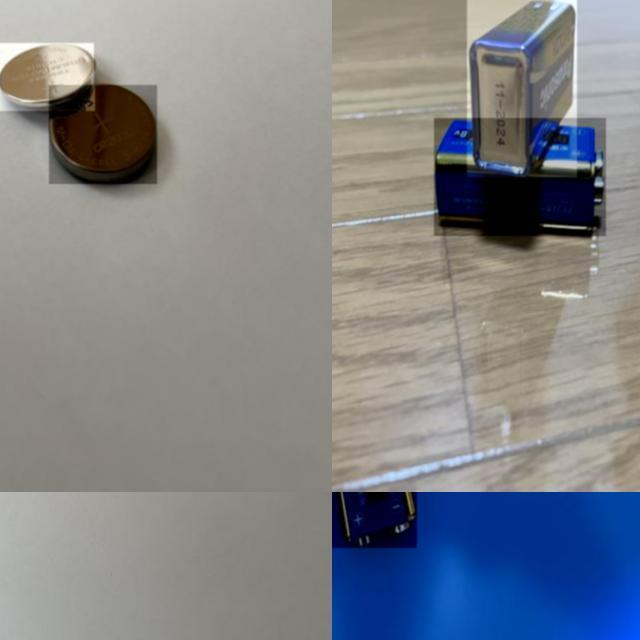9V: (434, 119, 606, 237), (467, 0, 576, 178), (332, 492, 417, 548)
